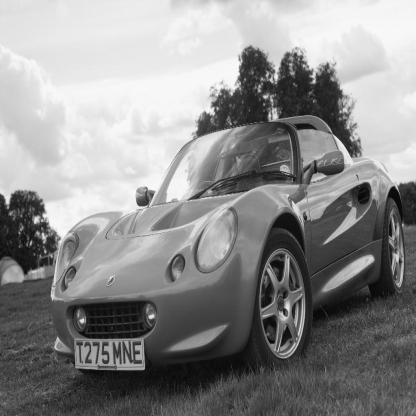Car: (51, 115, 406, 375)
